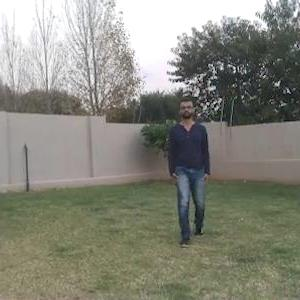follow: (172, 101, 207, 239)
